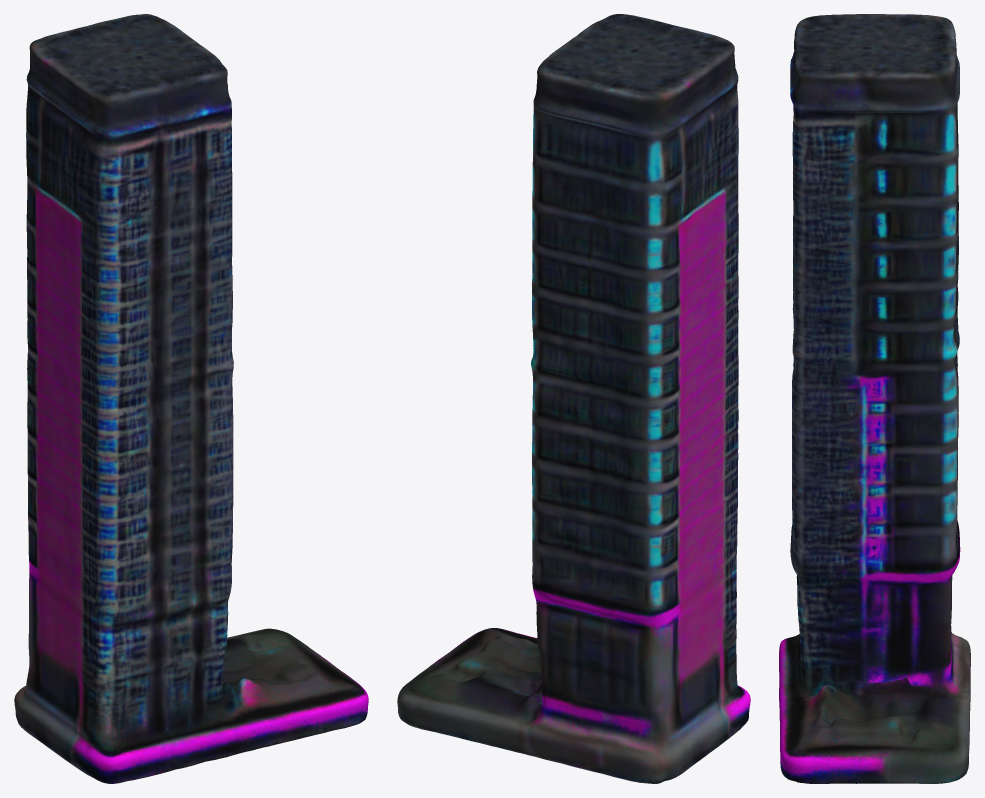
The model's file is 88541839210a_a_tall__minimalist_futuristic_sk.glb.
3 views of the same model, side by side, from view 1: azimuth 30°, elevation 25°; view 2: azimuth 150°, elevation 25°; view 3: azimuth 270°, elevation 25° (orthographic). The views are drawn at different scales.
Parts seen in each view (by area): view 1: geometry_0; view 2: geometry_0; view 3: geometry_0.
Boxes of the visible parts, x1,y1,x2,y2 form: geometry_0: (14,14,368,783); geometry_0: (397,14,750,783); geometry_0: (779,14,970,783).
Size of the model in its own units: 0.2298 by 0.5521 by 0.1451.
Materials: 1 (1 with a texture image).
